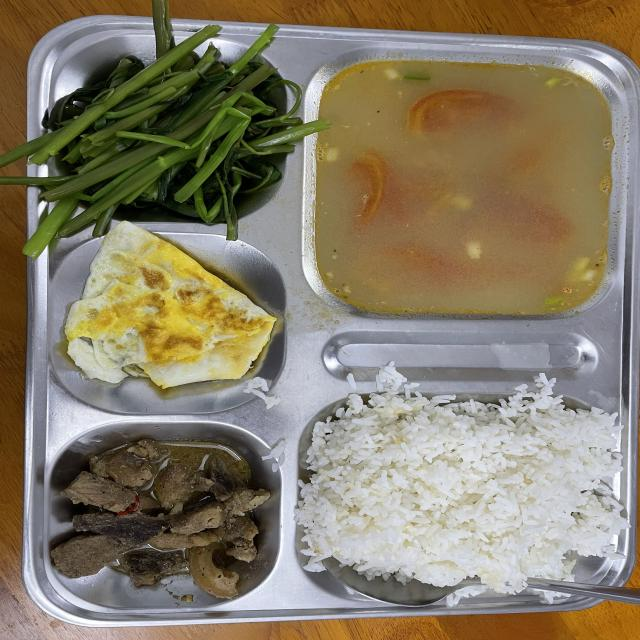bo xao: (51, 439, 270, 599)
canh chua: (310, 60, 617, 315)
com: (295, 367, 628, 594)
rau muong: (0, 0, 327, 258)
trung chien: (65, 221, 276, 388)
